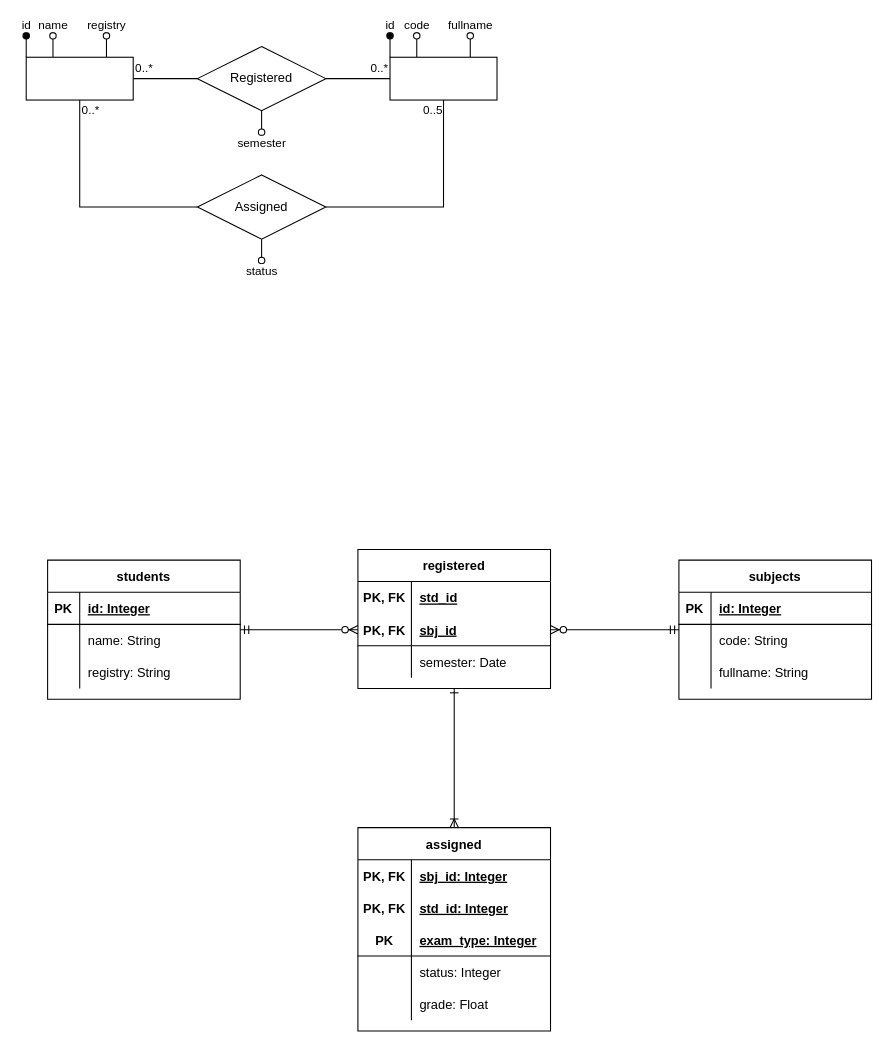
The diagram is 890 pixels wide and 1050 high, and some of its shapes have lost their labels. Each missing label, with the centre of its shape:
"Student" goes at (x=79, y=78).
"Subject" goes at (x=443, y=78).
